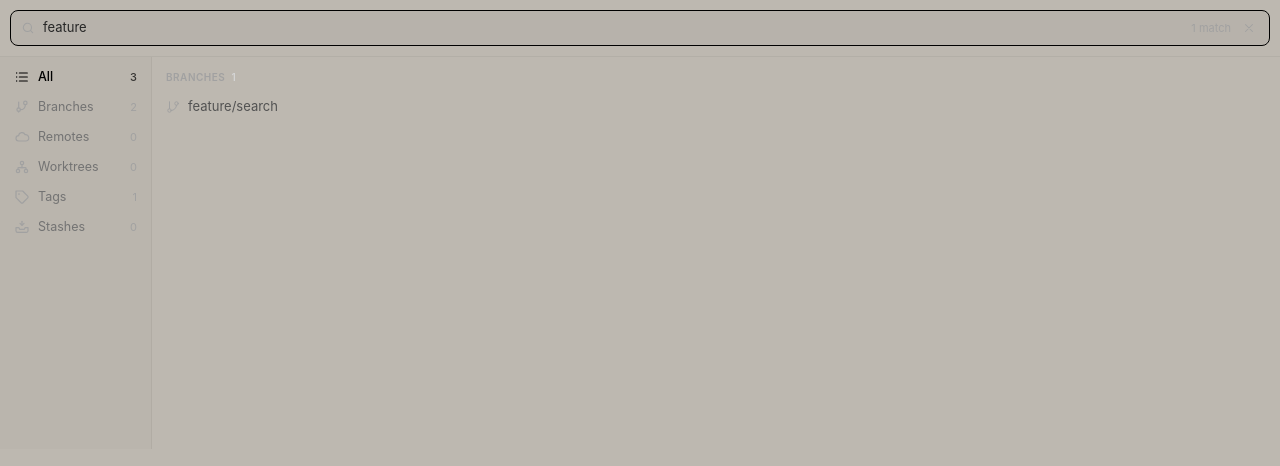
Scenario: BranchNavigator › switches category from the sidebar, clearing the search, and shows that kind only
This screenshot has width=1280, height=466.
Click the button "Tags 1": (76, 197) [6,183,145,211]
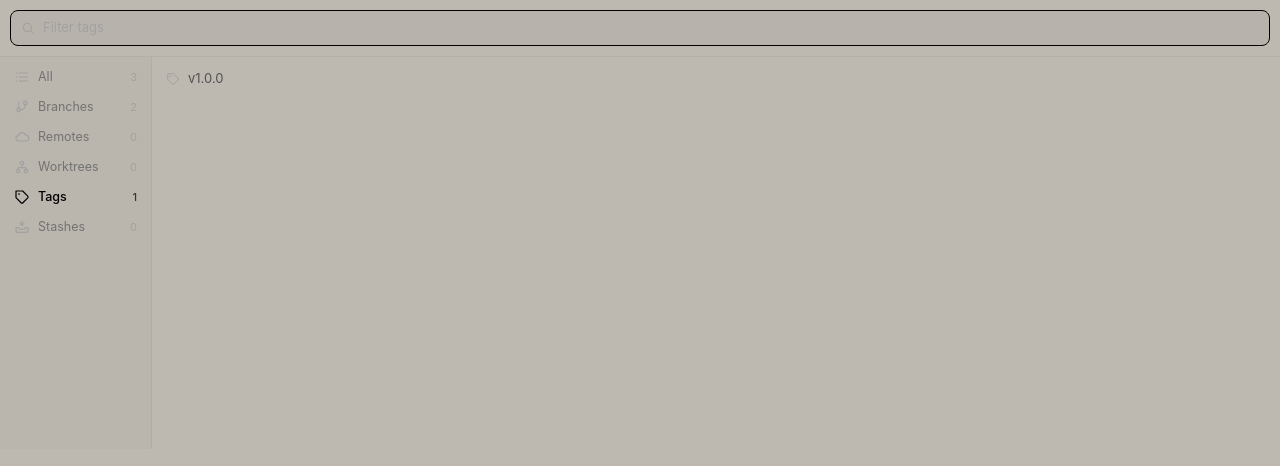
Expected: the text "v1.0.0" is shown, [188,70,224,86]
